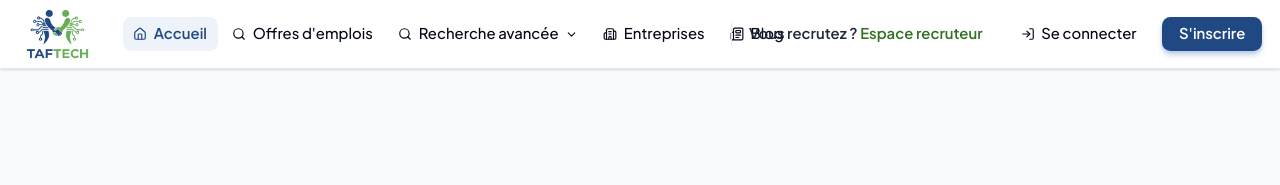
🖥️ UI & Logique - Composant <Navbar /> › 🟢 Happy Path 5 : Dropdown Recherche avancée regroupe secteur/région/métier
Check: the link "Offres d'emplois" is shown, box [232, 24, 373, 42]
Check: the link "Par secteur" is not shown
Click the button "Recherche avancée" at (488, 34), box [388, 17, 589, 51]
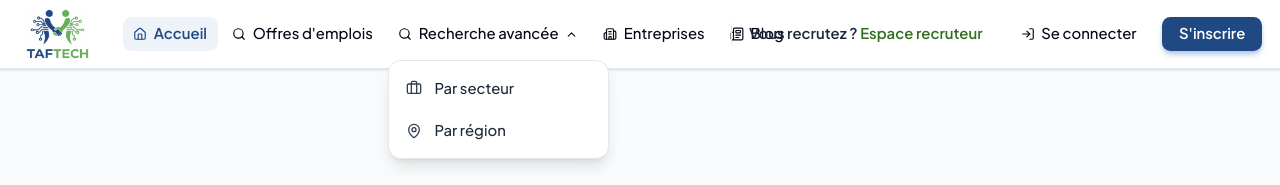
Check: the link "Par secteur" is shown, box [406, 78, 514, 96]
Check: the link "Par région" is shown, box [406, 121, 506, 139]
